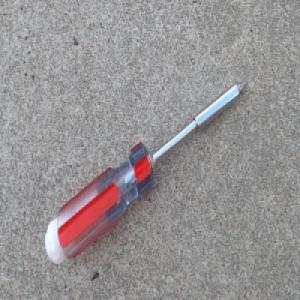Screwdriver: (44, 79, 247, 267)
